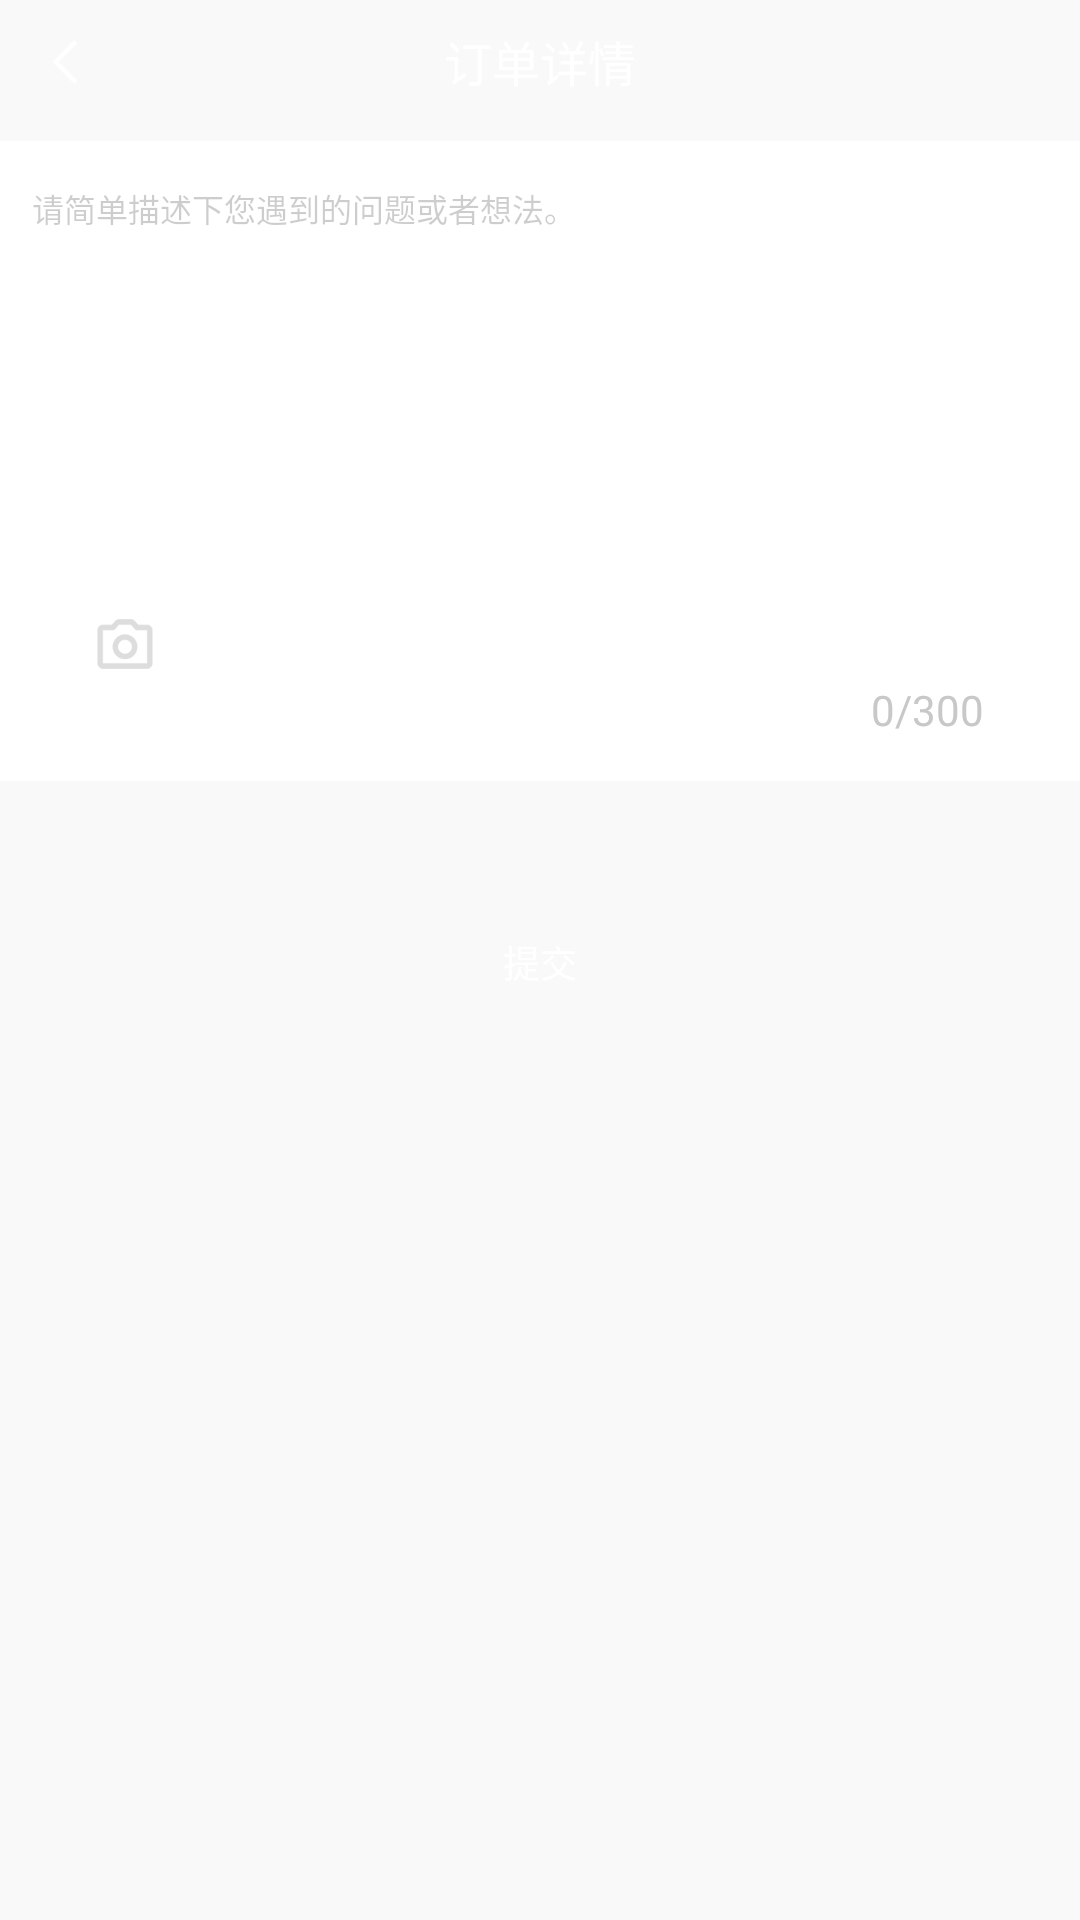

Screen size 1080×1920. Icon name, then its box in pixels as (x1, y1, x2, y2):
feedback photo: (98, 619, 152, 669)
